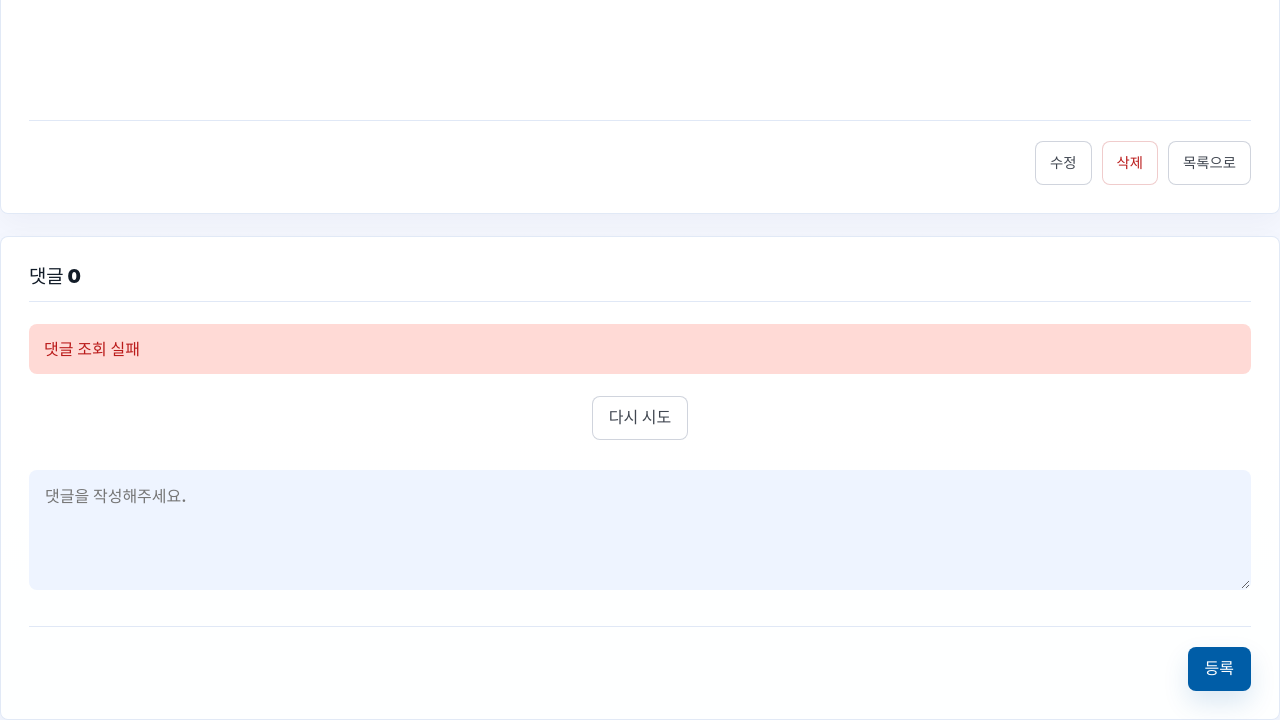
Scenario: CommunityDetailPage › should_retry_comment_loading_when_comment_request_fails
(page scrolled)
Check: the text "댓글 조회 실패" is shown, box [29, 324, 1251, 374]
Click the button "다시 시도". click: (640, 418)
box: [592, 396, 688, 440]
(page scrolled)
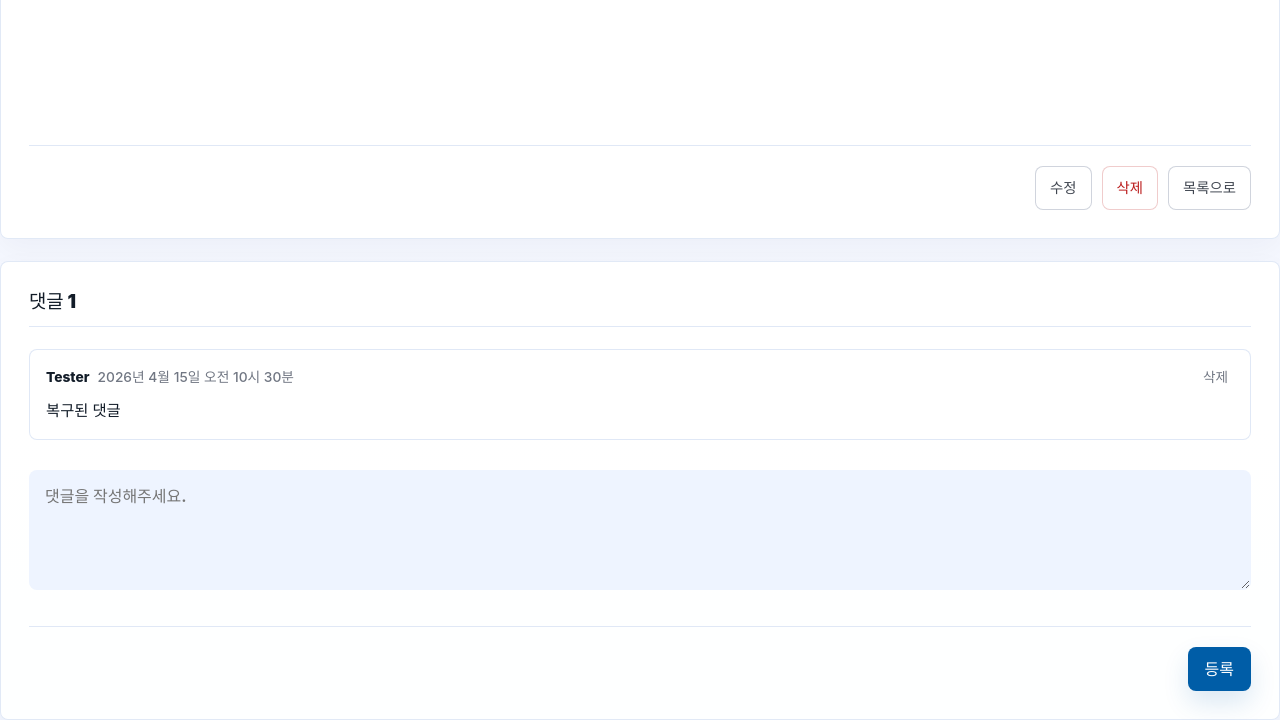
Check: the text "복구된 댓글" is shown, box [46, 401, 121, 420]
